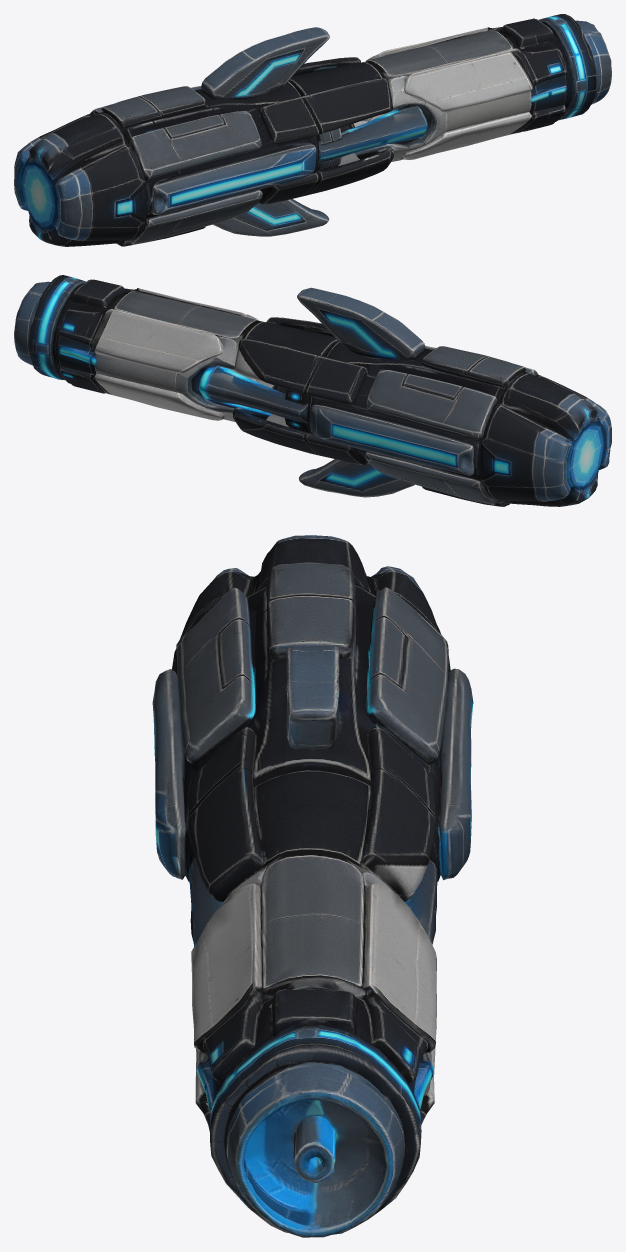
The model's file is DroneBullet_v65.glb.
The picture shows the model from 3 angles, top to bottom: view 1: azimuth 30°, elevation 25°; view 2: azimuth 150°, elevation 25°; view 3: azimuth 270°, elevation 25°; orthographic projection. The views are drawn at different scales.
Size of the model in its own units: 1 by 0.3281 by 0.251.
Materials: 1 (1 with a texture image).
